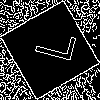L: (25, 25, 76, 64)
